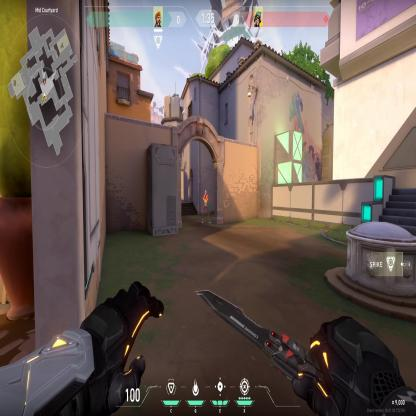enemy: (202, 189, 212, 224)
